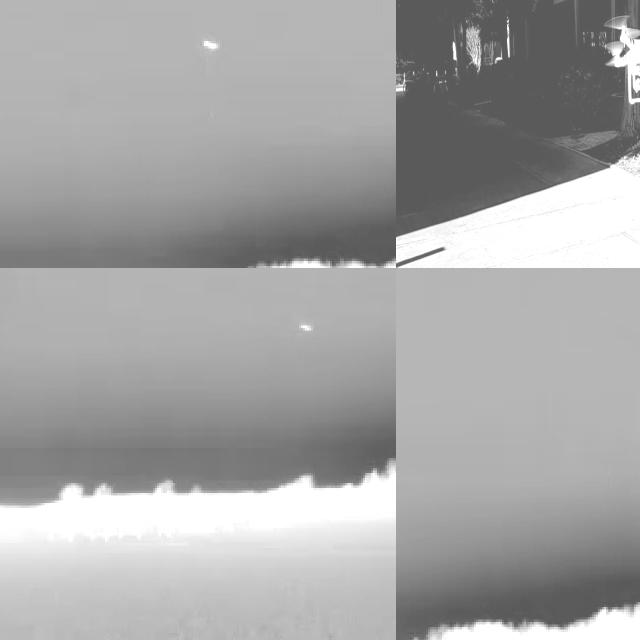1: (290, 316, 322, 350), (196, 36, 226, 64)
drone: (609, 14, 640, 108)
